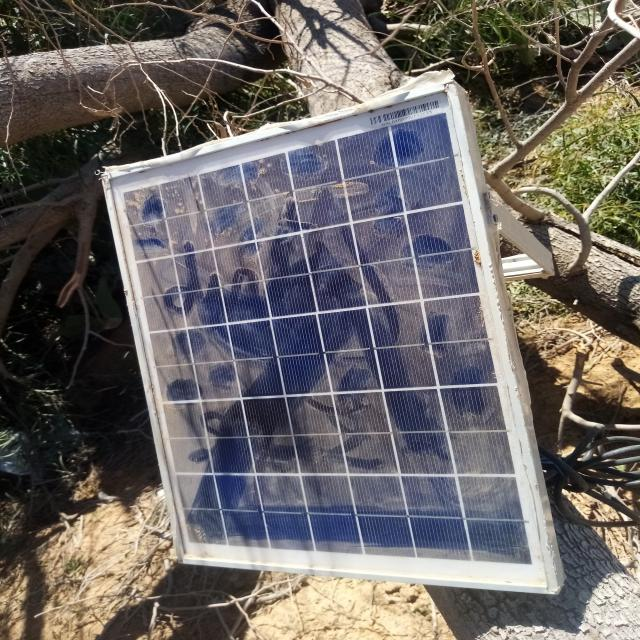faulty: (102, 86, 555, 591)
